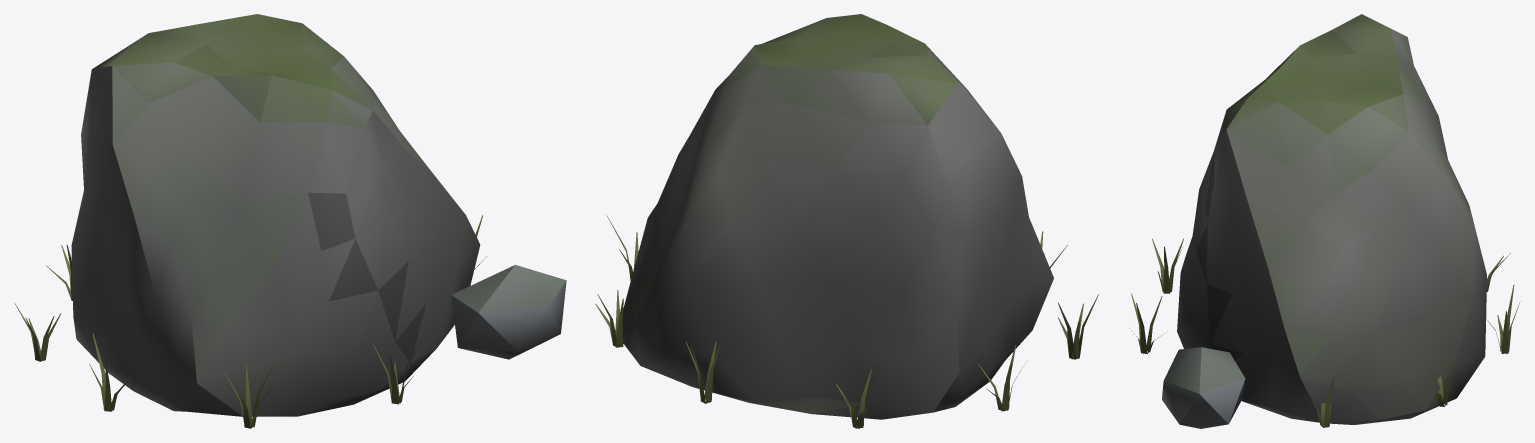
File: ph_env_boulder.glb
The picture shows the model from 3 angles, left to right: view 1: azimuth 30°, elevation 25°; view 2: azimuth 150°, elevation 25°; view 3: azimuth 270°, elevation 25°; orthographic projection. The views are drawn at different scales.
Visible parts, largest first — view 1: ph_env_boulder; view 2: ph_env_boulder; view 3: ph_env_boulder.
Boxes of the visible parts, x1,y1,x2,y2 form: ph_env_boulder: (14,14,566,428); ph_env_boulder: (595,14,1098,428); ph_env_boulder: (1129,14,1520,428).
Bounding box in the file's own units: 2.09 × 1.52 × 1.77.
